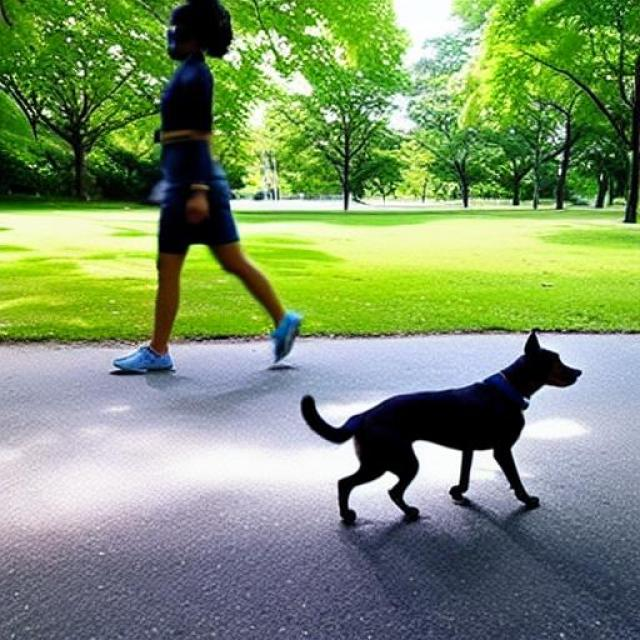Unleashed_Dog: (168, 176, 585, 522)
